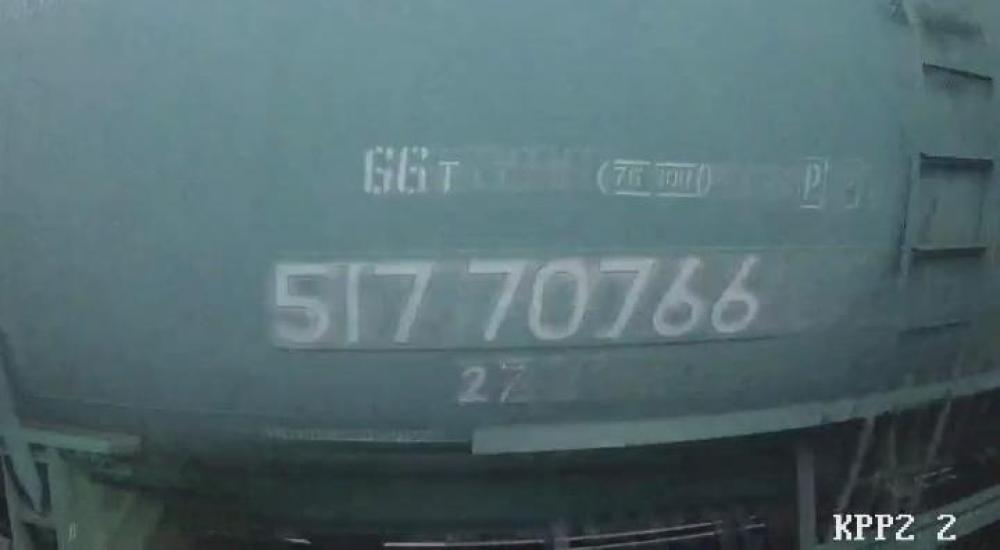Wagon-number: (271, 247, 776, 350)
